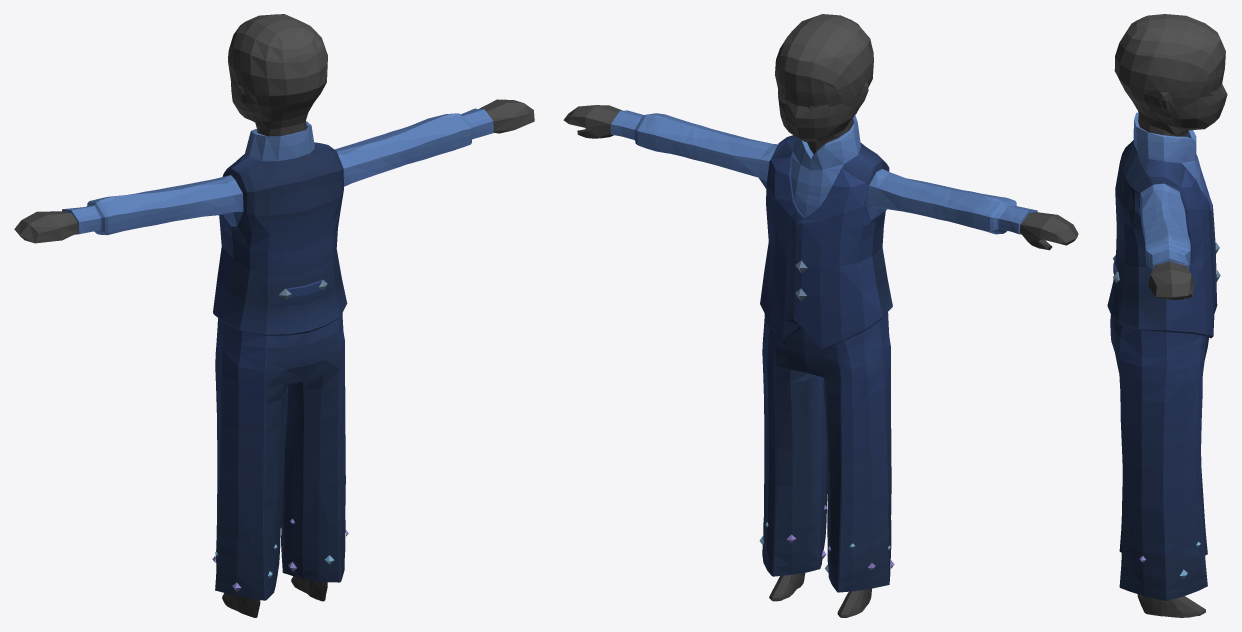
The model's file is CharSkyKid_Body_CrystalSuit.glb.
The picture shows the model from 3 angles, left to right: view 1: azimuth 30°, elevation 25°; view 2: azimuth 150°, elevation 25°; view 3: azimuth 270°, elevation 25°; orthographic projection.
Visible parts, largest first — view 1: CharSkyKid_Body_CrystalSuit; view 2: CharSkyKid_Body_CrystalSuit; view 3: CharSkyKid_Body_CrystalSuit.
Boxes of the visible parts, x1,y1,x2,y2 form: CharSkyKid_Body_CrystalSuit: (14,14,534,617); CharSkyKid_Body_CrystalSuit: (563,14,1078,617); CharSkyKid_Body_CrystalSuit: (1107,14,1227,617).
Size of the model in its own units: 13.83 by 14.94 by 2.81.
Materials: 1 (1 with a texture image).
